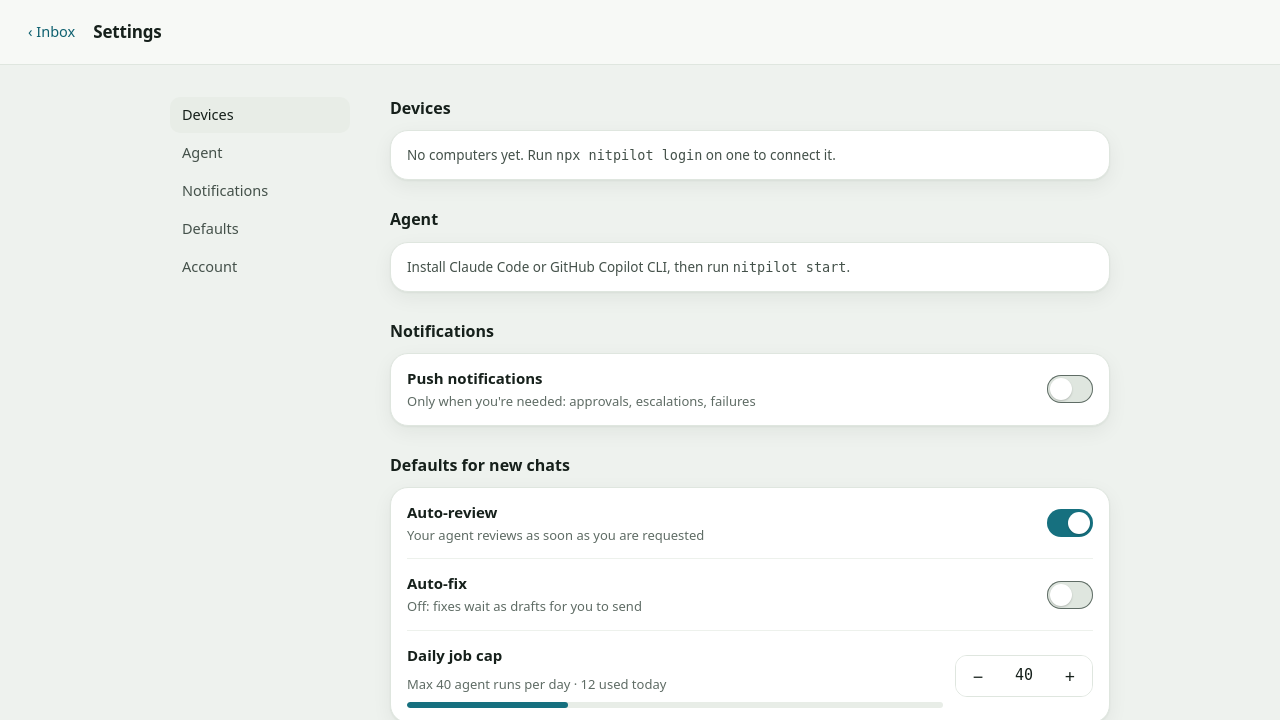
Defaults (handoff §7 "Defaults for new chats") › says why a save was refused, goes back to what the server has, and asks for it again
Click the button named "Raise cap". click: (1070, 676)
box: [1048,656,1092,696]
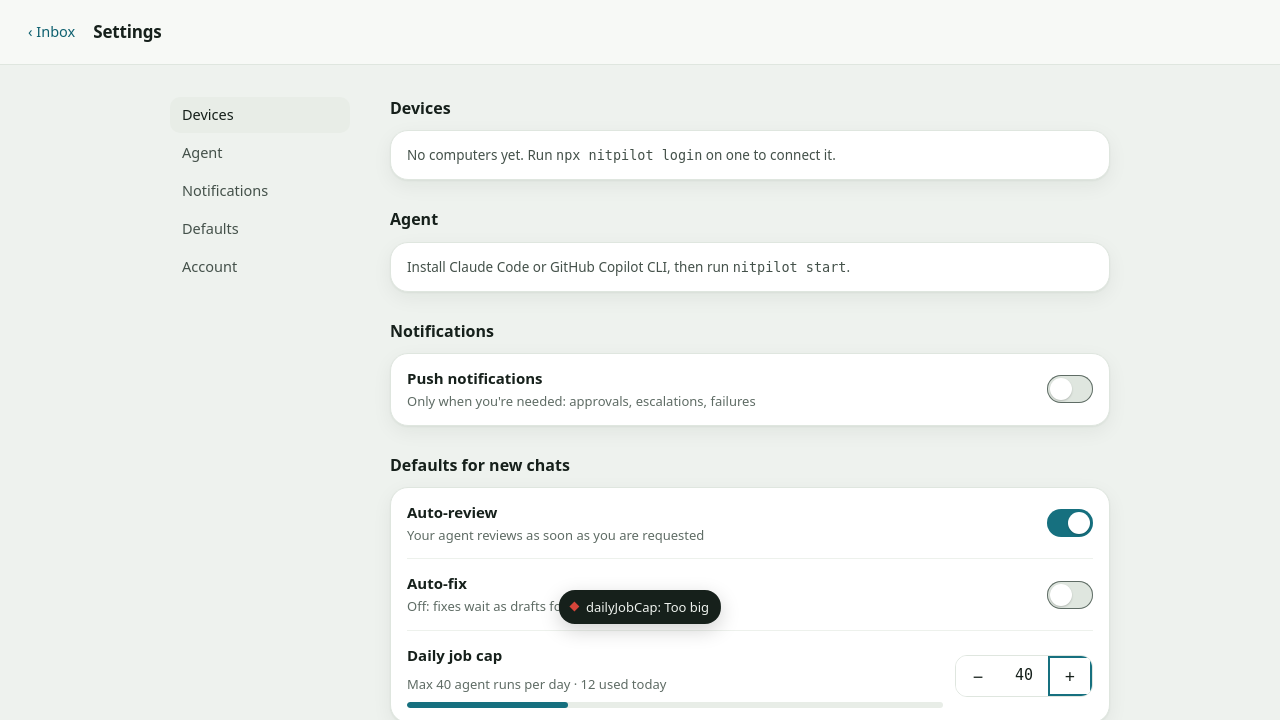
Expected: the text "Max 40 agent runs per day · 12 used today" is shown, [407,675,666,693]
Expected: the text "dailyJobCap: Too big" is shown, [559,590,721,624]
